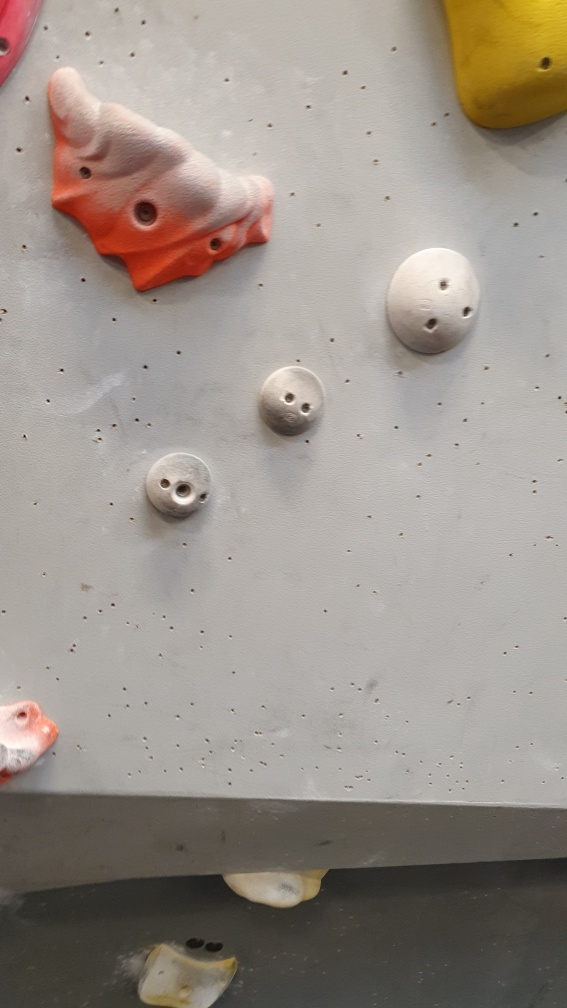Hand Start: (183, 931, 210, 955), (201, 934, 226, 955)
Jug: (42, 61, 277, 301)
Sloper: (386, 246, 485, 356), (254, 360, 331, 440), (143, 450, 214, 527)
